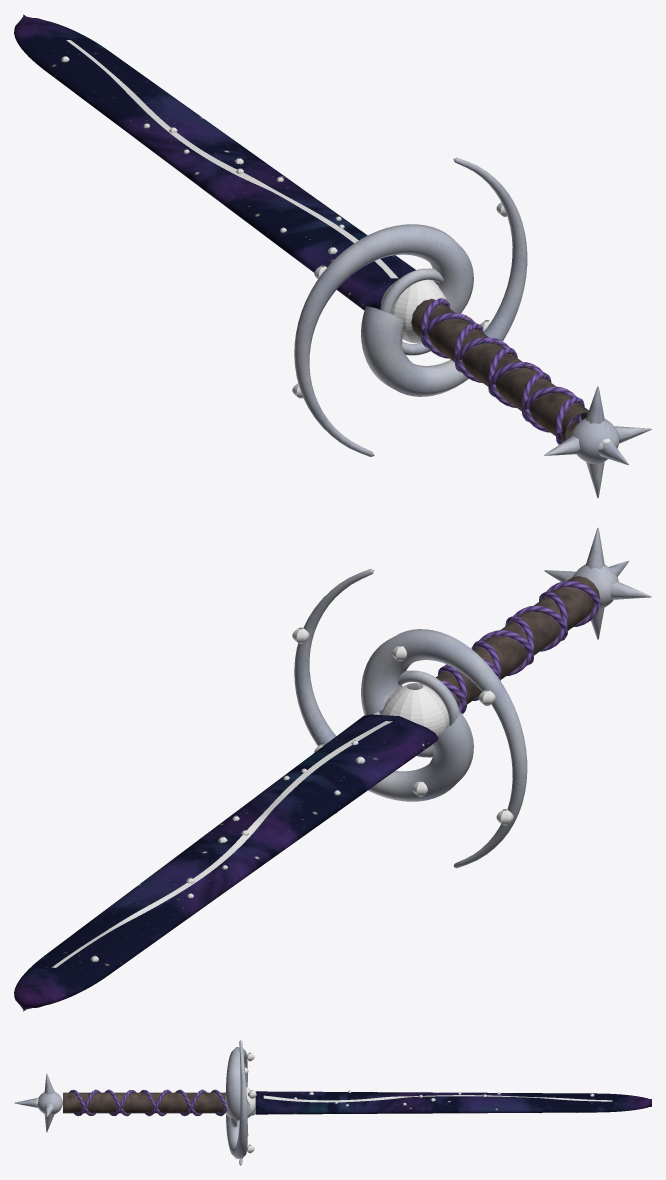
Rendered from Sword8.fbx.
3 views of the same model, one above another, from view 1: azimuth 30°, elevation 25°; view 2: azimuth 150°, elevation 25°; view 3: azimuth 270°, elevation 25° (orthographic). The views are drawn at different scales.
Visible parts, largest first — view 1: Sword8_Body, Sword8_Glow_643cff; view 2: Sword8_Body, Sword8_Glow_643cff; view 3: Sword8_Body, Sword8_Glow_643cff.
Boxes of the visible parts, <box> form: Sword8_Body: <box>14,14,651,498</box>; Sword8_Glow_643cff: <box>61,40,613,456</box>; Sword8_Body: <box>14,527,651,1011</box>; Sword8_Glow_643cff: <box>52,627,513,967</box>; Sword8_Body: <box>14,1040,651,1165</box>; Sword8_Glow_643cff: <box>35,1052,612,1153</box>.
Size of the model in its own units: 1.31 by 1.51 by 5.96.
Materials: 2 (1 with a texture image).
